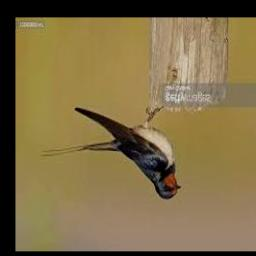Swallow: (41, 108, 181, 200)
